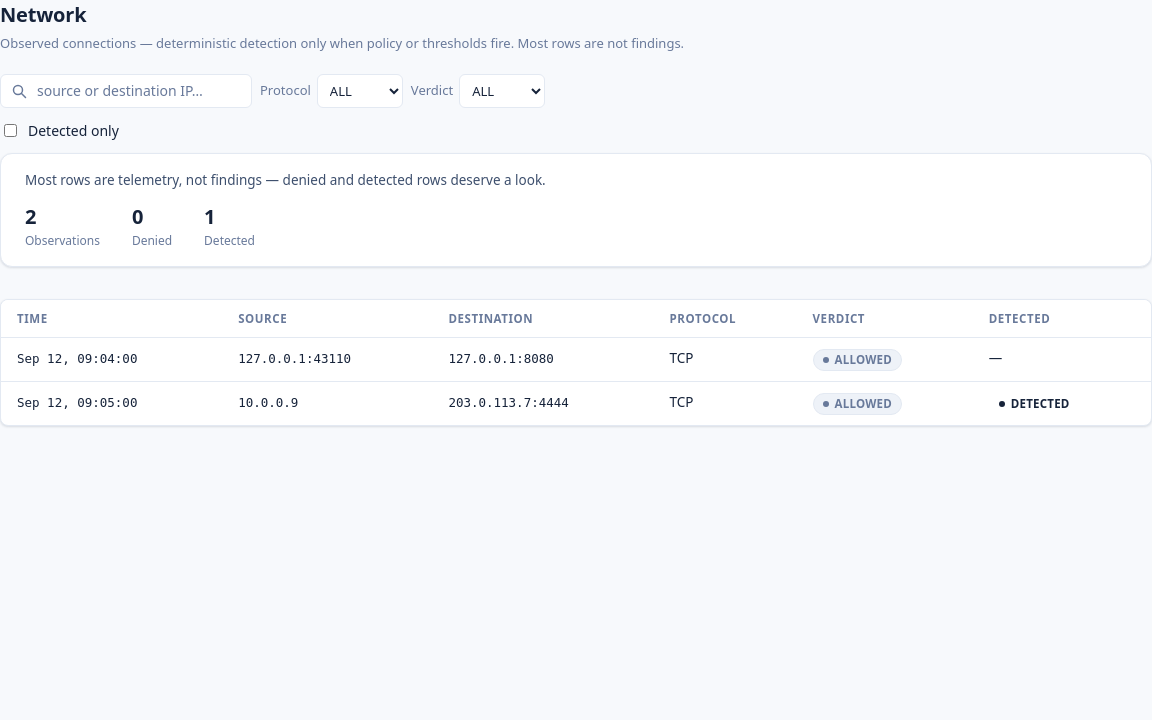
Test case: Network › opens detail with verdict and asset correlation
This screenshot has width=1152, height=720.
Check: the text "203.0.113.7:4444" is shown, box [448,395,569,410]
Click the row named "Open evt-seed-net-002".
click(77, 402)  # box [1,382,1151,425]
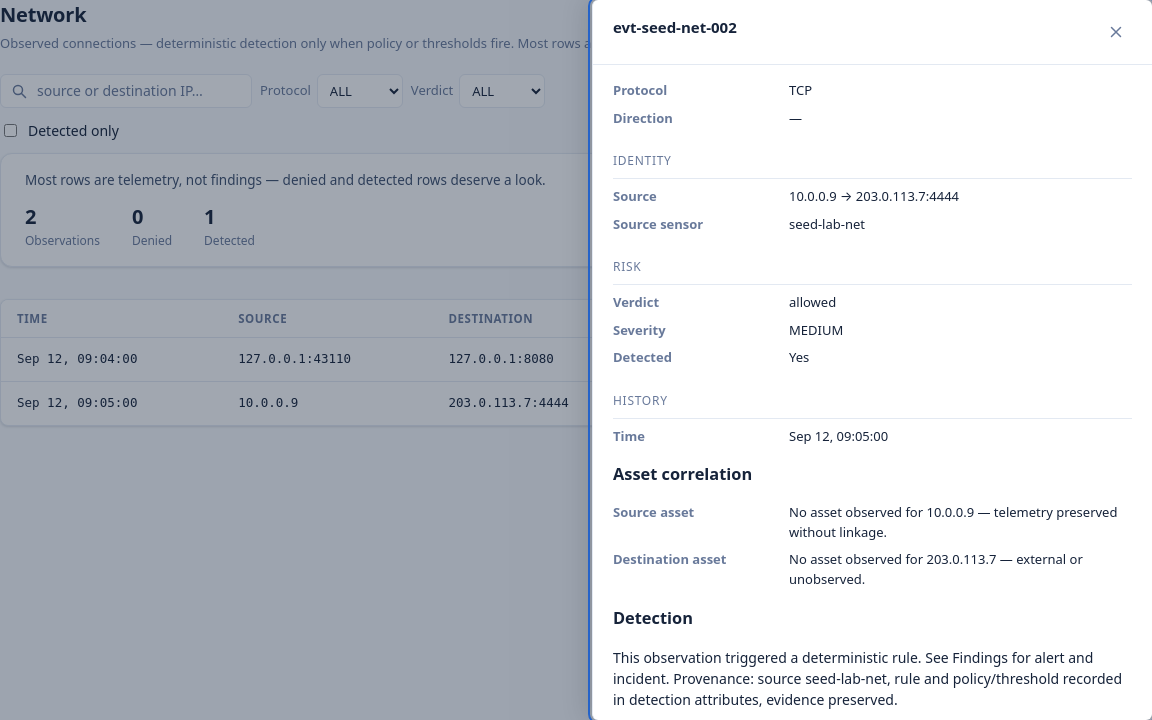
Check: the heading "Asset correlation" is shown, box [613,463,752,485]
Check: the text "This observation triggered" is shown, box [613,648,1093,688]
